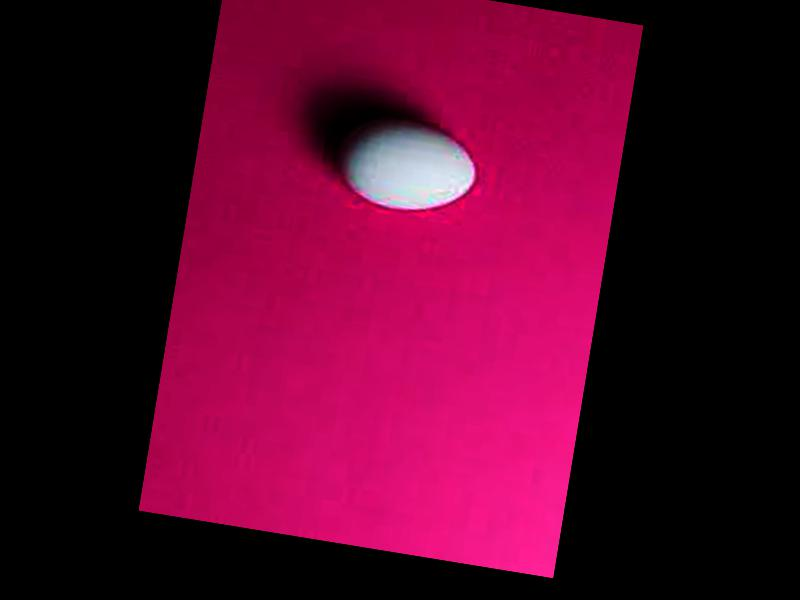Eggs: (331, 110, 482, 221)
